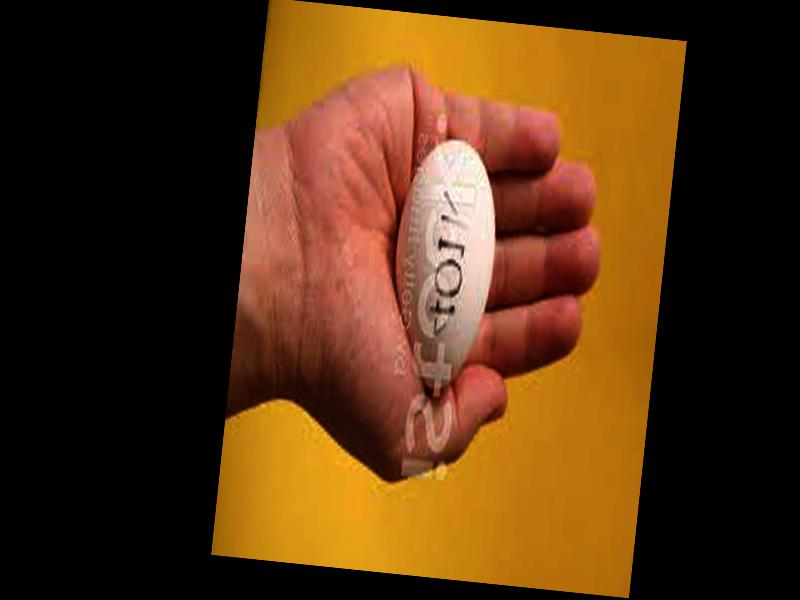Eggs: (383, 135, 505, 394)
